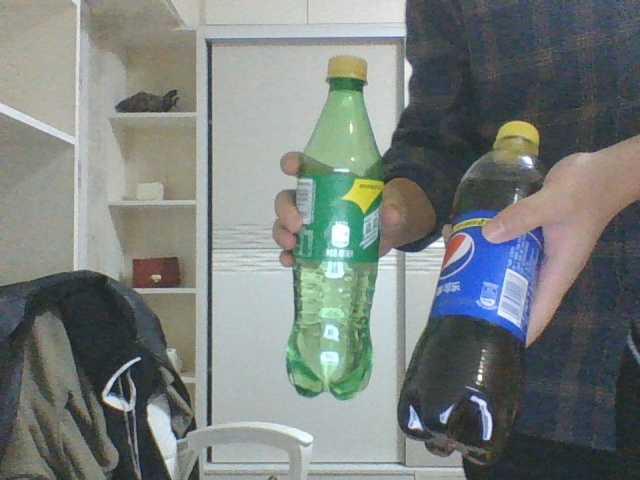Cola: (397, 119, 549, 462)
Sprite: (284, 54, 383, 397)
